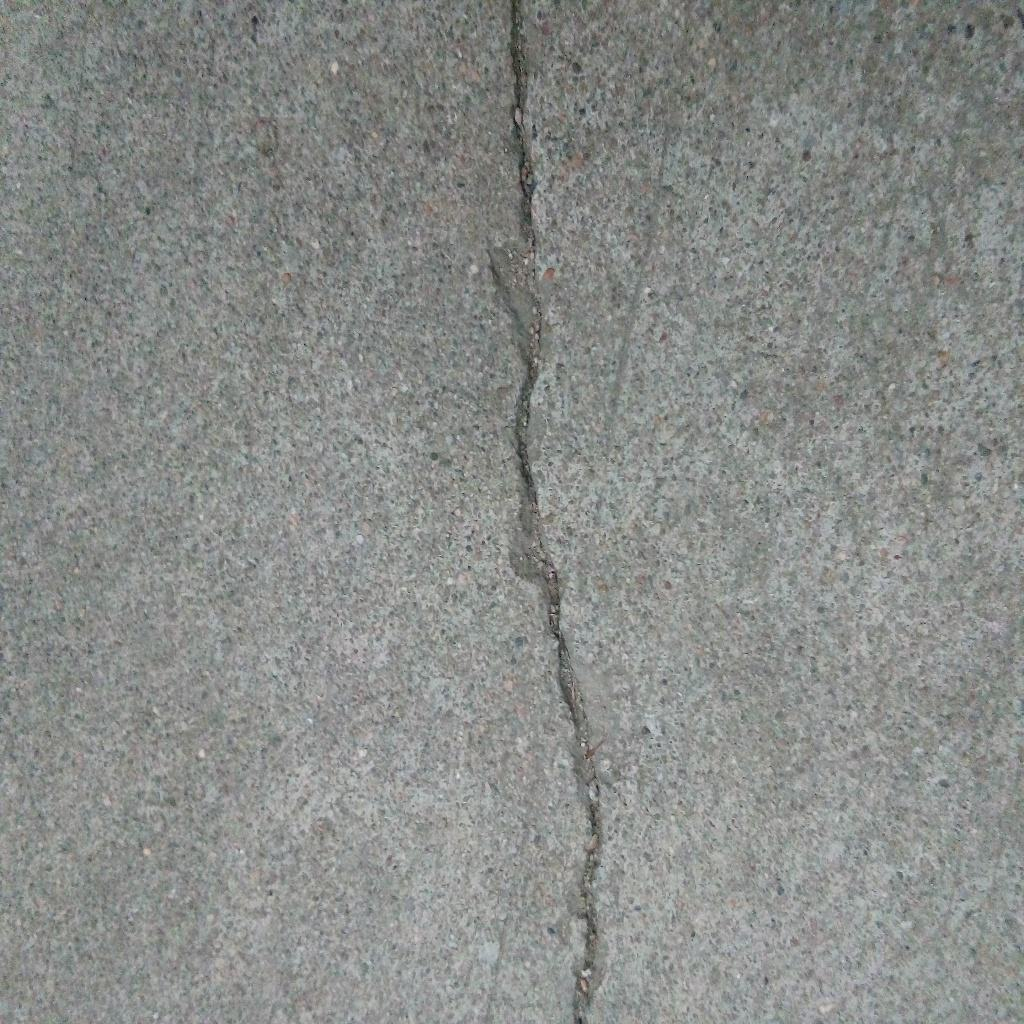Crack: (486, 1, 607, 1024)
